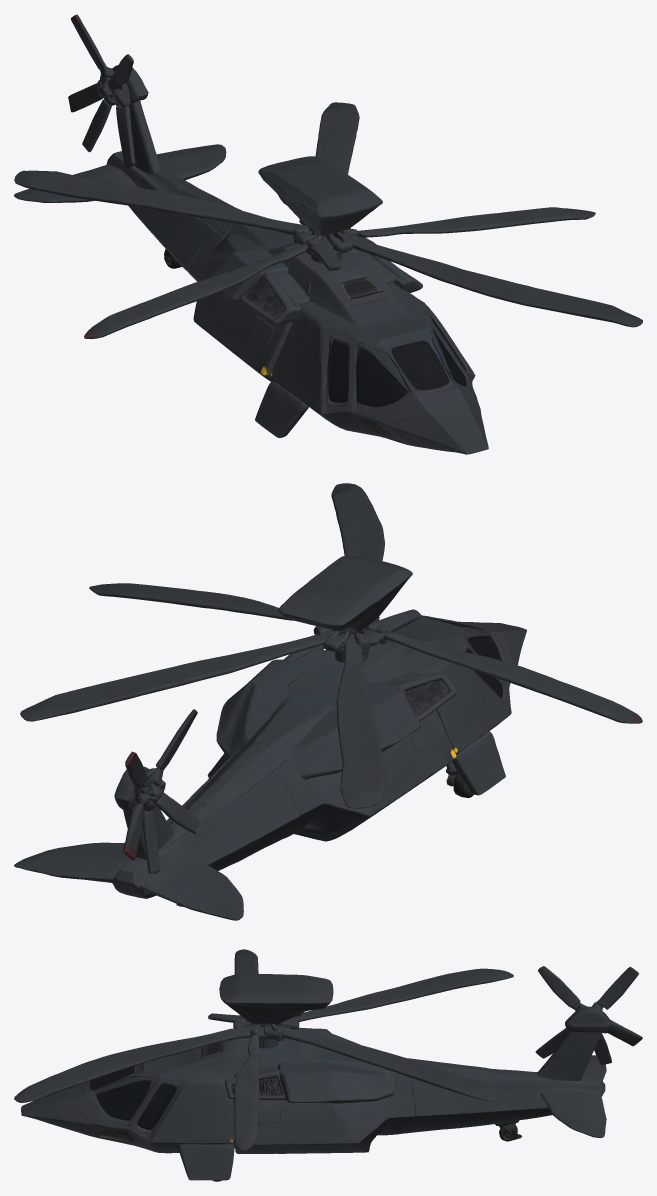
File: stealth-helicopter-v244.glb
3 views of the same model, one above another, from view 1: azimuth 30°, elevation 25°; view 2: azimuth 150°, elevation 25°; view 3: azimuth 270°, elevation 25° (orthographic). The views are drawn at different scales.
Parts seen in each view (by area): view 1: Mesh; view 2: Mesh; view 3: Mesh.
Boxes of the visible parts, x1,y1,x2,y2 form: Mesh: [14, 14, 642, 454]; Mesh: [14, 483, 642, 920]; Mesh: [14, 949, 642, 1181].
Size of the model in its own units: 1.44 by 0.5821 by 1.9.
1 material, 1 textured.
